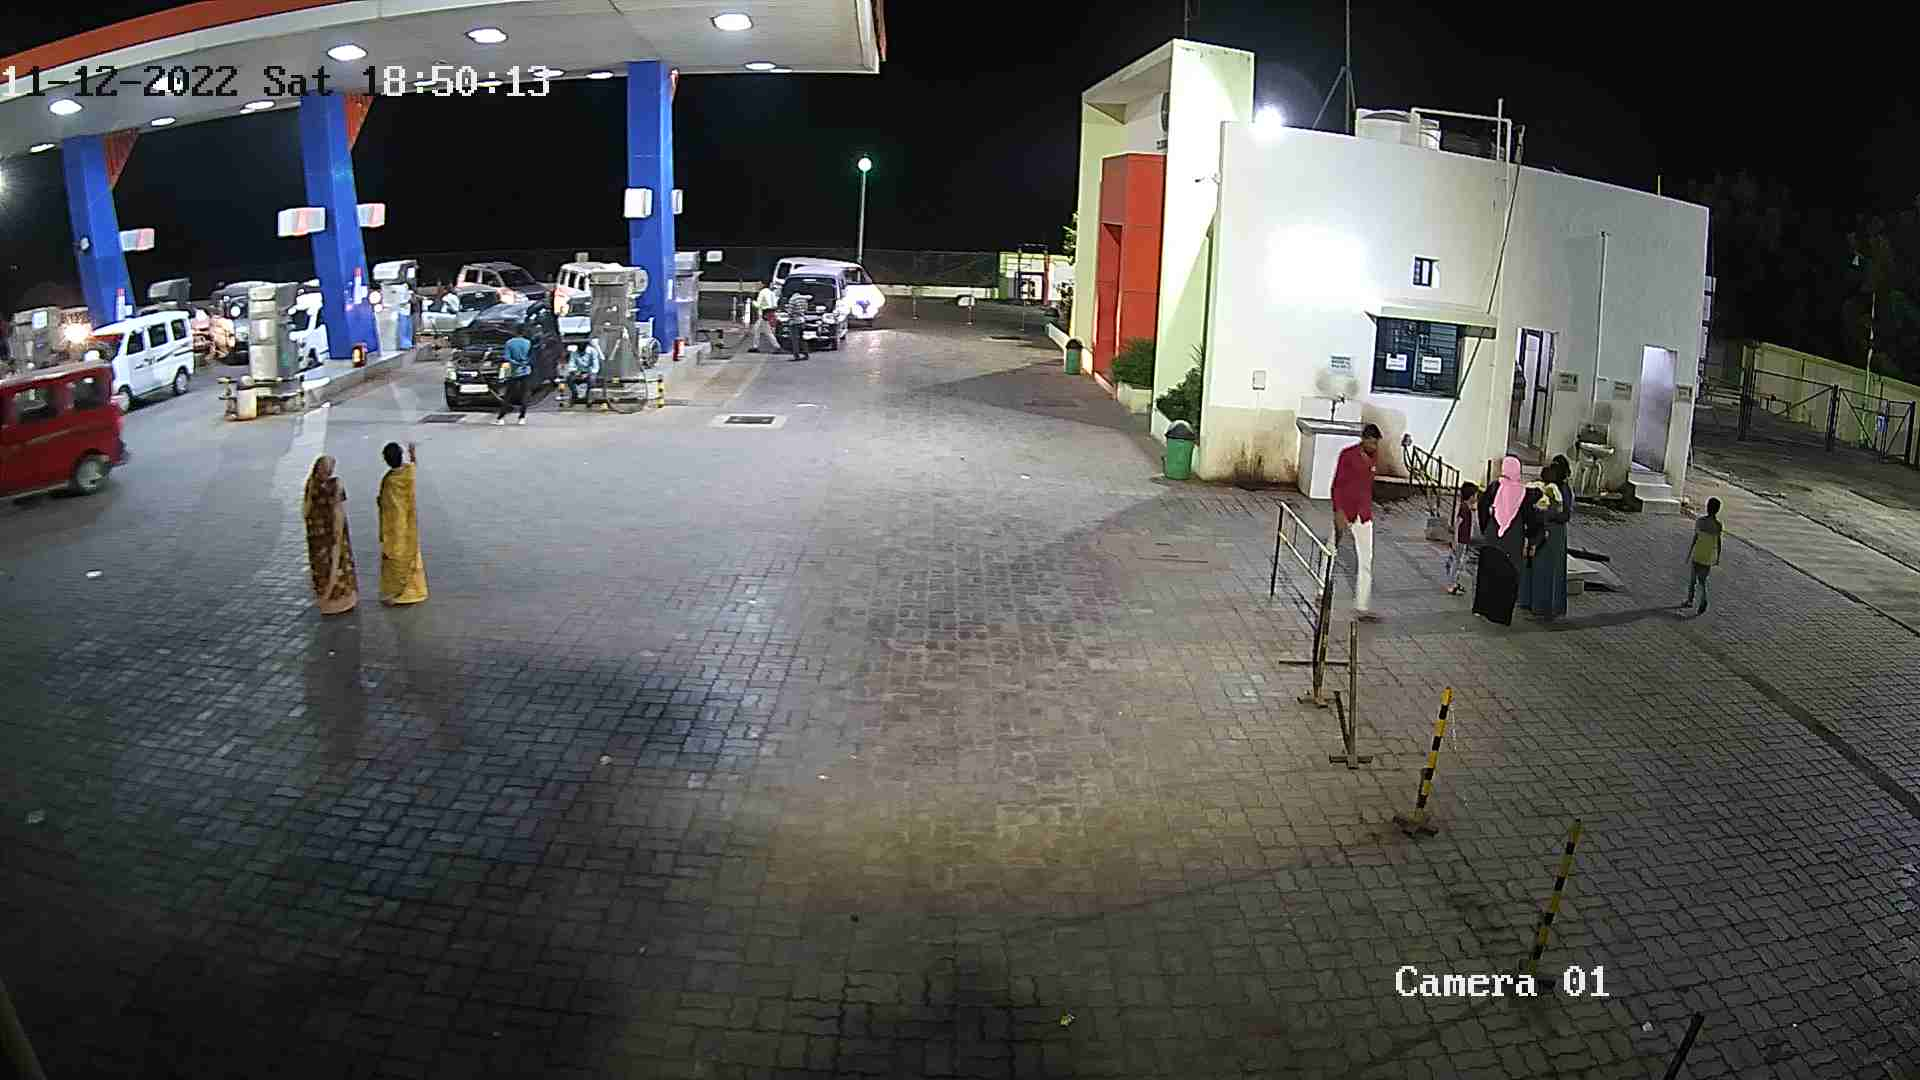Car: (0, 353, 133, 512), (440, 290, 574, 415), (71, 302, 204, 419), (750, 257, 857, 353), (767, 252, 889, 332), (199, 276, 278, 363), (409, 278, 498, 349), (454, 253, 551, 311), (285, 284, 339, 380), (546, 255, 626, 318), (543, 287, 595, 365)
